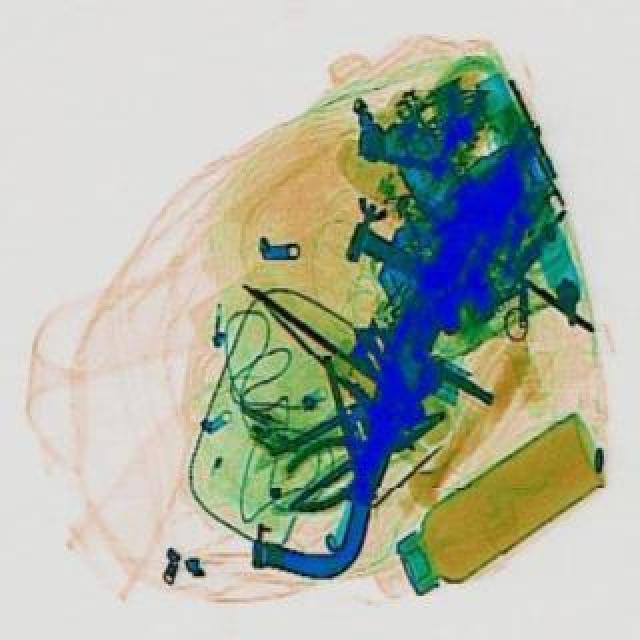wrench: (264, 384, 462, 520)
